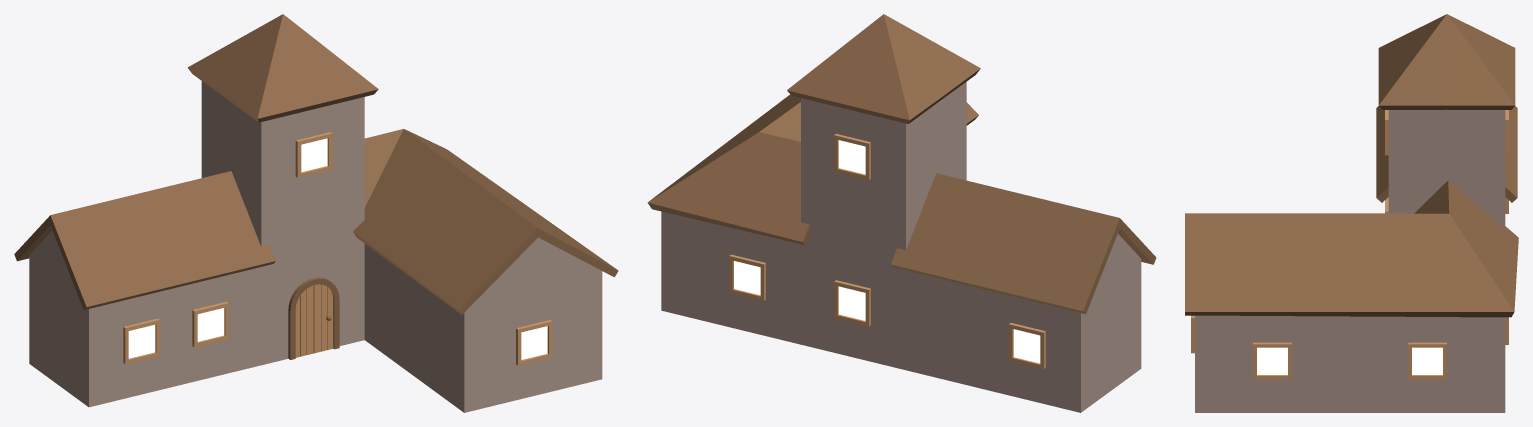
The model's file is SM_TownHall_01.fbx.
3 renders of one model, left to right at view 1: azimuth 30°, elevation 25°; view 2: azimuth 150°, elevation 25°; view 3: azimuth 270°, elevation 25°, orthographic. The views are drawn at different scales.
Parts seen in each view (by area): view 1: Cube.014, DoorCurved_01.005, WindowSmall_01.039, WindowSmall_01.037, WindowSmall_01.038, WindowSmall_01.044; view 2: Cube.014, WindowSmall_01.043, WindowSmall_01.040, WindowSmall_01.041, WindowSmall_01.042; view 3: Cube.014, WindowSmall_01.045, WindowSmall_01.046.
Part boxes in pixels (box(x1,y1,x2,y2)): Cube.014: box(14, 14, 618, 412); DoorCurved_01.005: box(288, 277, 339, 359); WindowSmall_01.039: box(295, 132, 332, 177); WindowSmall_01.037: box(192, 301, 228, 347); WindowSmall_01.038: box(123, 318, 159, 364); WindowSmall_01.044: box(516, 320, 552, 365); Cube.014: box(647, 14, 1156, 412); WindowSmall_01.043: box(834, 280, 870, 326); WindowSmall_01.040: box(834, 133, 870, 180); WindowSmall_01.041: box(729, 254, 765, 300); WindowSmall_01.042: box(1009, 323, 1045, 369); Cube.014: box(1185, 14, 1518, 412); WindowSmall_01.045: box(1253, 342, 1291, 379); WindowSmall_01.046: box(1408, 342, 1446, 379).
Bounding box in the file's own units: 1259 × 878 × 860.
